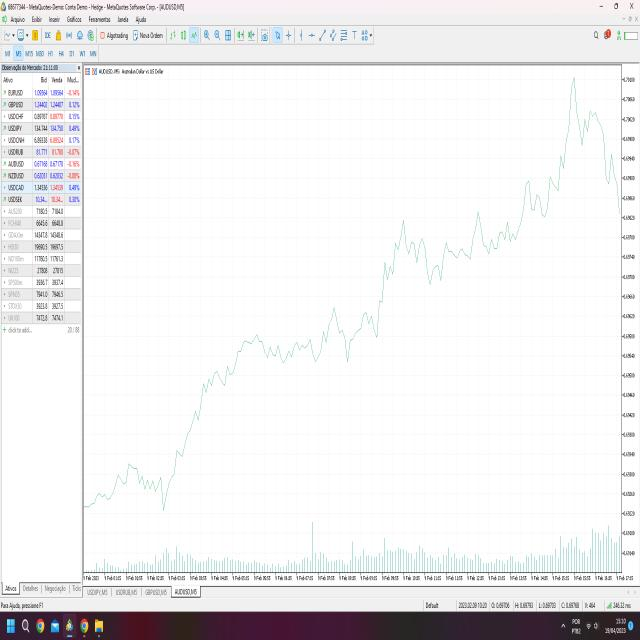fundo_duplo: (422, 234, 448, 288)
